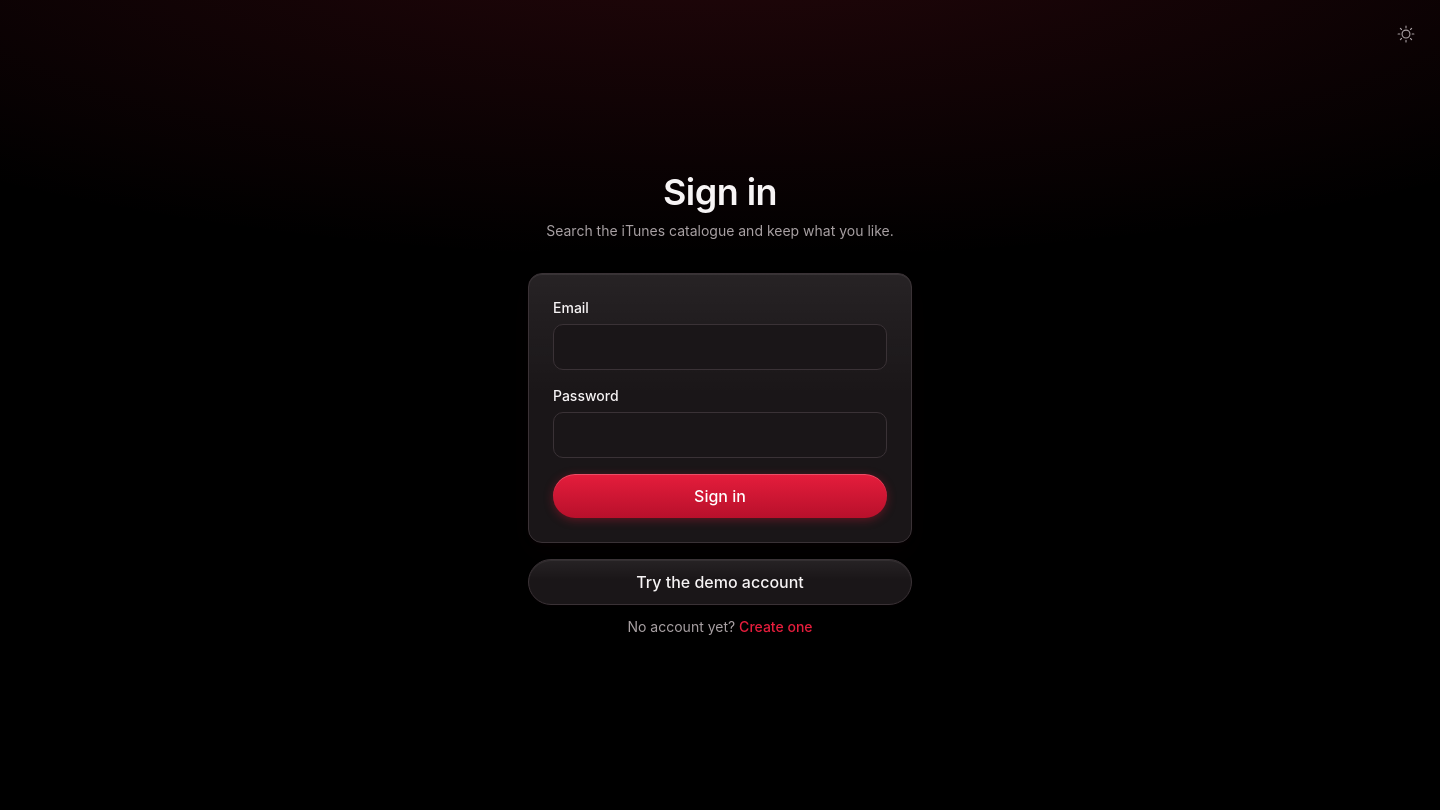
Scenario: the demo account › says so when the demo is not set up on the server
Step 1. Click the button "Try the demo account" → [720, 582], box [528,560,912,606]
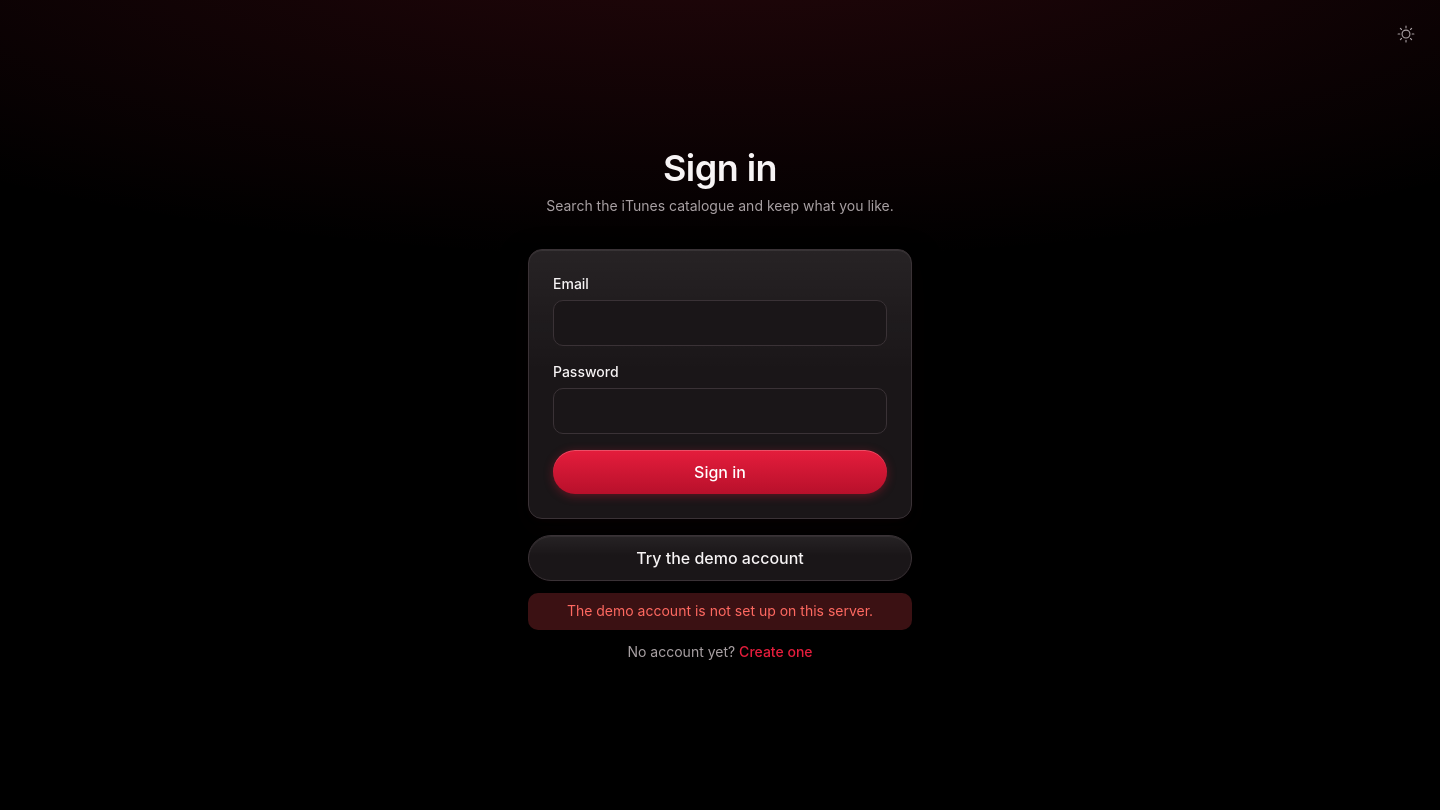
Expected: the message shows "demo account is not set up", [567,602,873,619]
